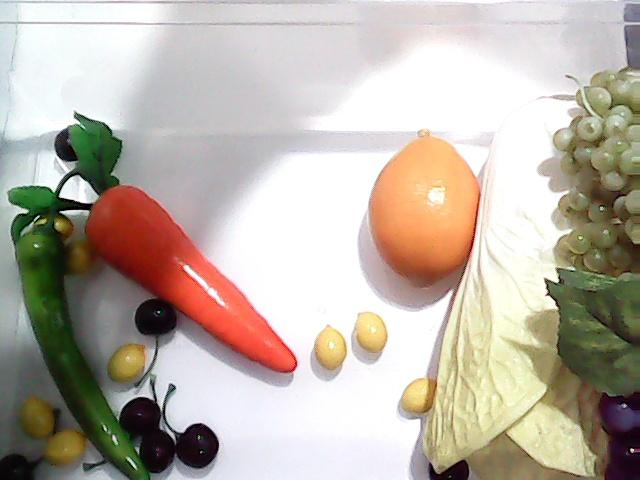carrot: (10, 114, 298, 374)
grape: (531, 68, 640, 279), (544, 266, 640, 480)
lemon: (363, 124, 491, 286)
napa cabbage: (436, 82, 640, 480)
pepper: (7, 180, 149, 480)
